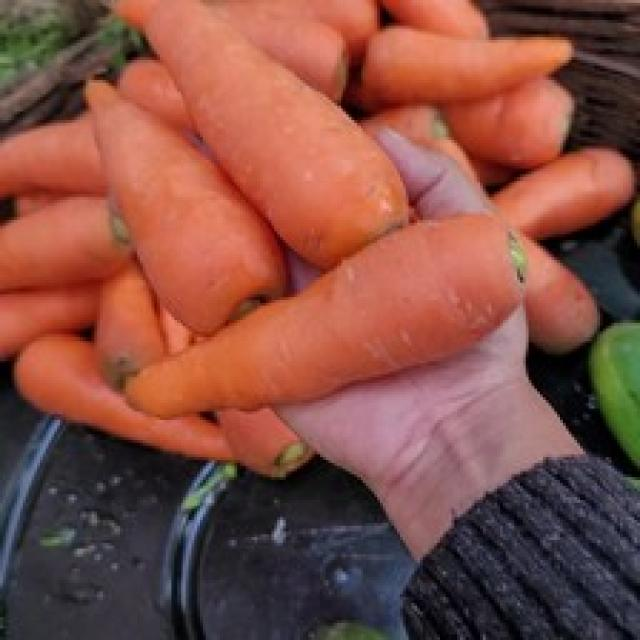Fresh_Carrot: (129, 203, 524, 400), (155, 0, 408, 261), (87, 84, 289, 325)
